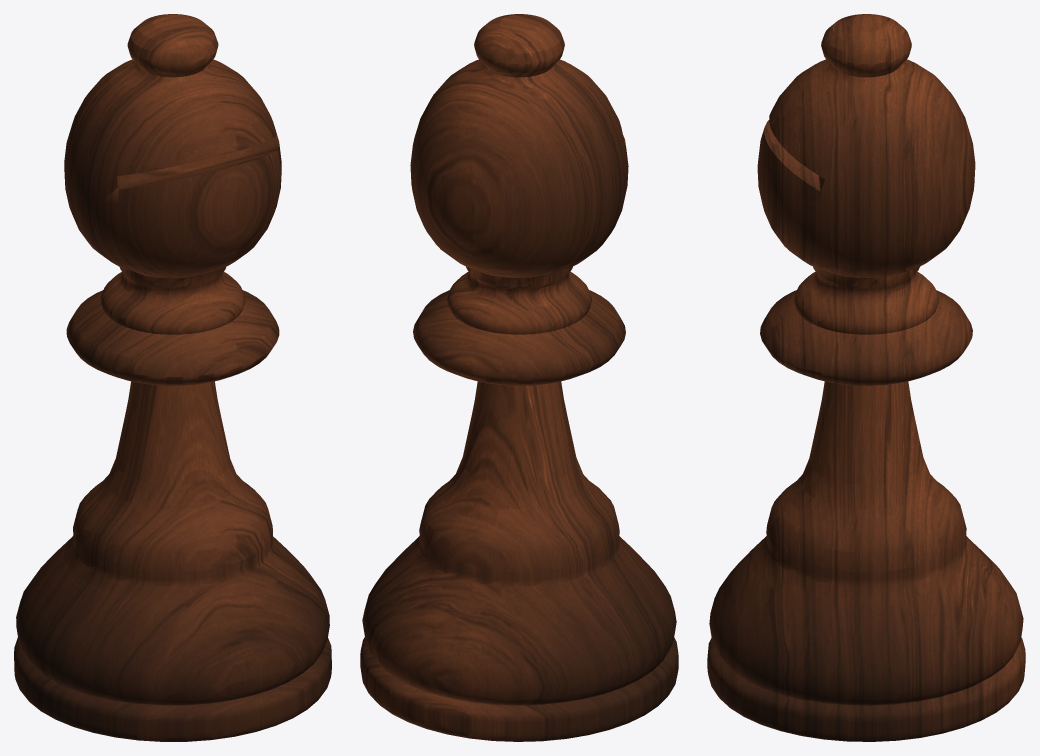
The model's file is preto-bispo.obj.
3 views of the same model, side by side, from view 1: azimuth 30°, elevation 25°; view 2: azimuth 150°, elevation 25°; view 3: azimuth 270°, elevation 25° (orthographic).
Visible parts, largest first — view 1: ALFIERE0; view 2: ALFIERE0; view 3: ALFIERE0.
Part boxes in pixels (x1,y1,x2,y2): ALFIERE0: [14, 14, 331, 741]; ALFIERE0: [360, 14, 678, 741]; ALFIERE0: [707, 14, 1025, 741].
Bounding box in the file's own units: 157 × 357 × 157.
1 material, 1 textured.
